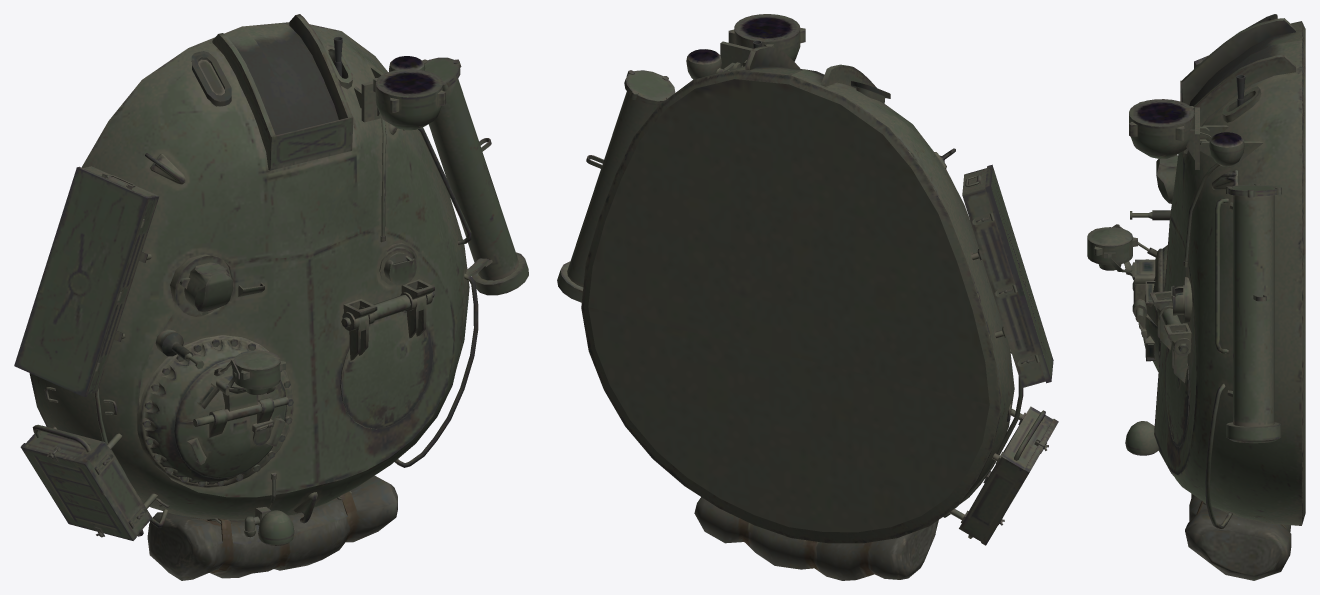
Rendered from Turret_01.glb.
3 views of the same model, side by side, from view 1: azimuth 30°, elevation 25°; view 2: azimuth 150°, elevation 25°; view 3: azimuth 270°, elevation 25° (orthographic). The views are drawn at different scales.
Visible parts, largest first — view 1: set_0_group_0; view 2: set_0_group_0; view 3: set_0_group_0.
Boxes of the visible parts, x1=… form: set_0_group_0: x1=14, y1=14, x2=528, y2=580; set_0_group_0: x1=557, y1=14, x2=1058, y2=580; set_0_group_0: x1=1087, y1=14, x2=1305, y2=580.
Bounding box in the file's own units: 3.07 × 3.05 × 1.18.
1 material, 1 textured.
